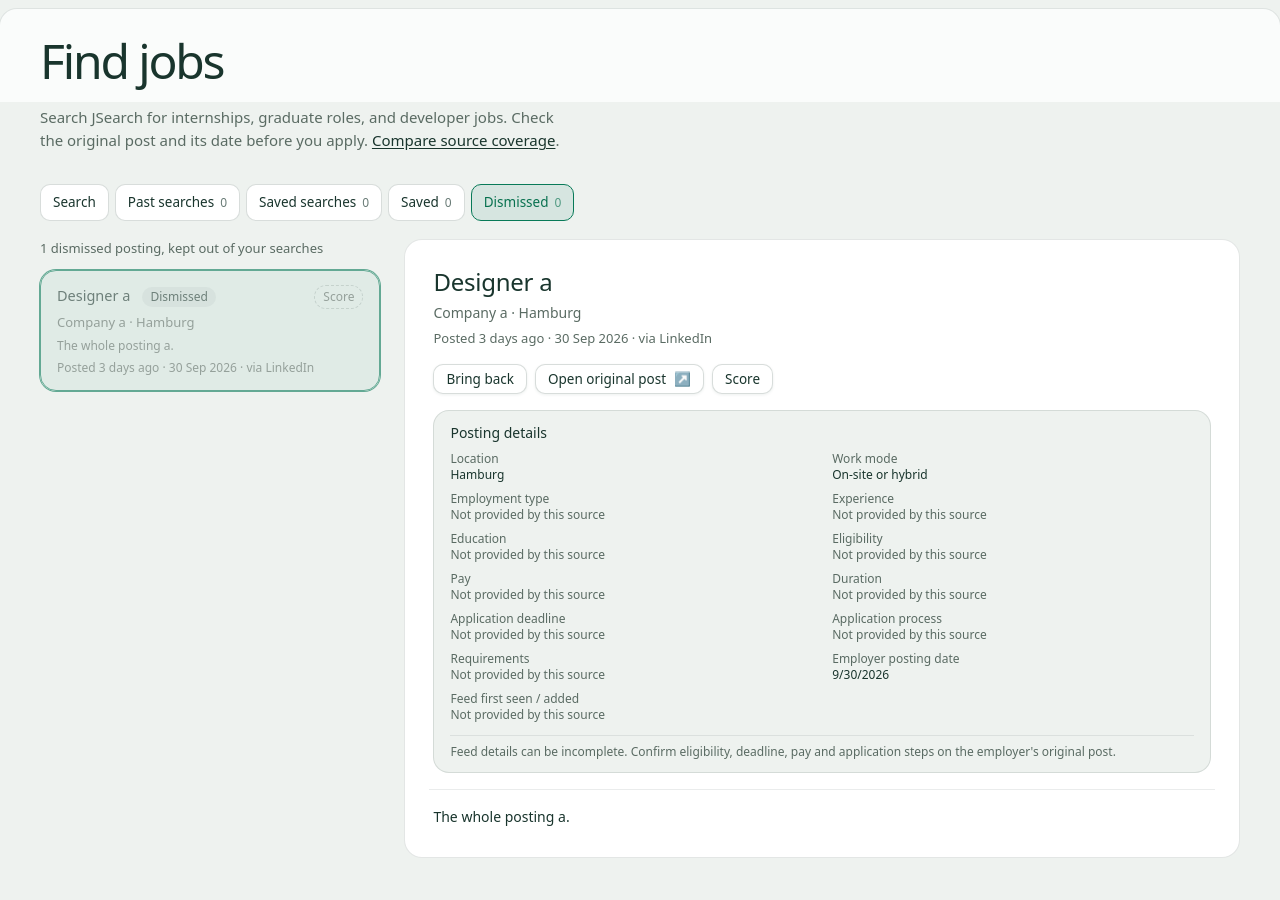
Scenario: the Saved and Dismissed views (E14-7) › brings a dismissed posting back into the searches
The image size is (1280, 900).
Check: the text "1 dismissed posting, kept out of your searches" is shown, box top-left (40, 239), bottom-right (323, 258)
What coordinates should you click on to do the following:
click the button "Bring back"
I would click on:
 (480, 379)
Its box is top-left (433, 364), bottom-right (527, 394).
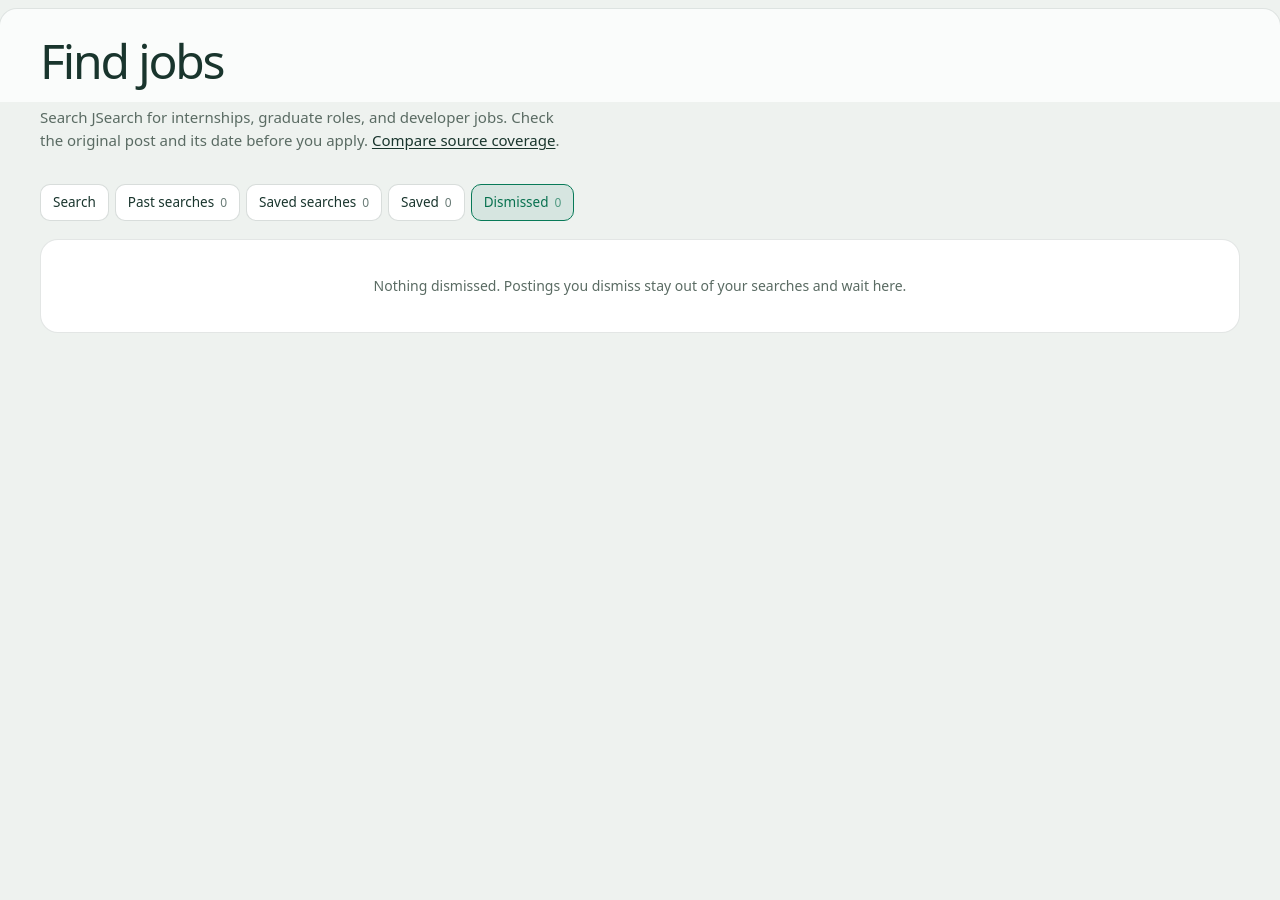
Check: the button "Designer a" is gone
